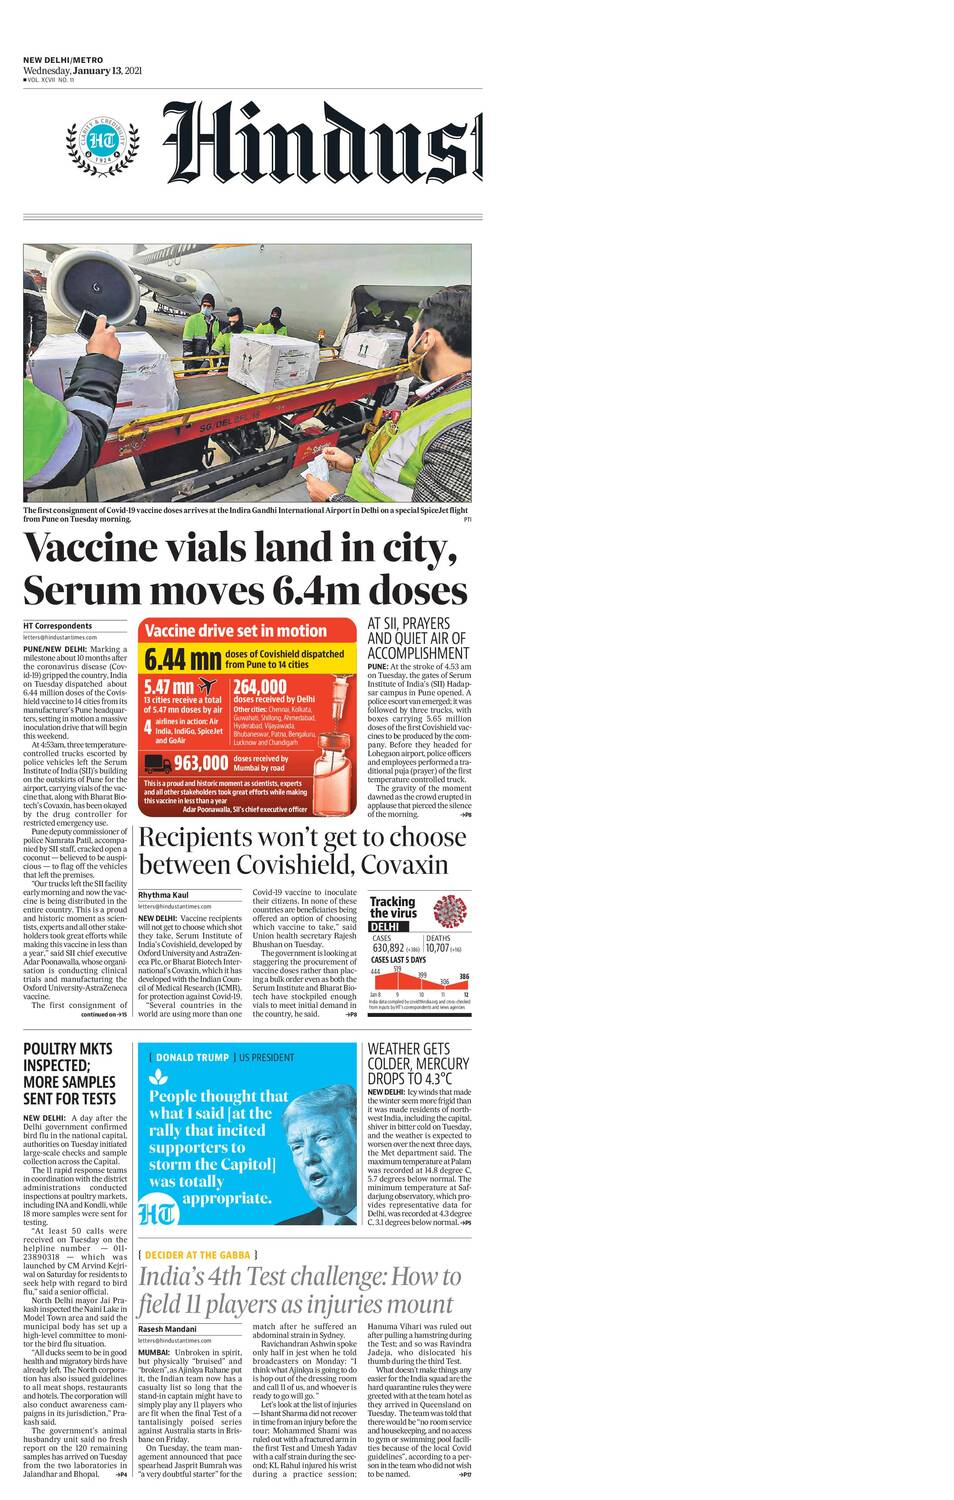news_paper: (10, 58, 604, 1500)
